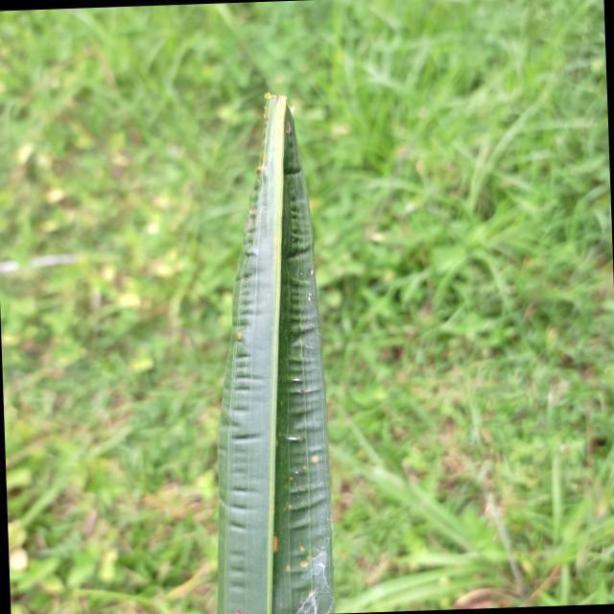Boron: (218, 83, 342, 611)
